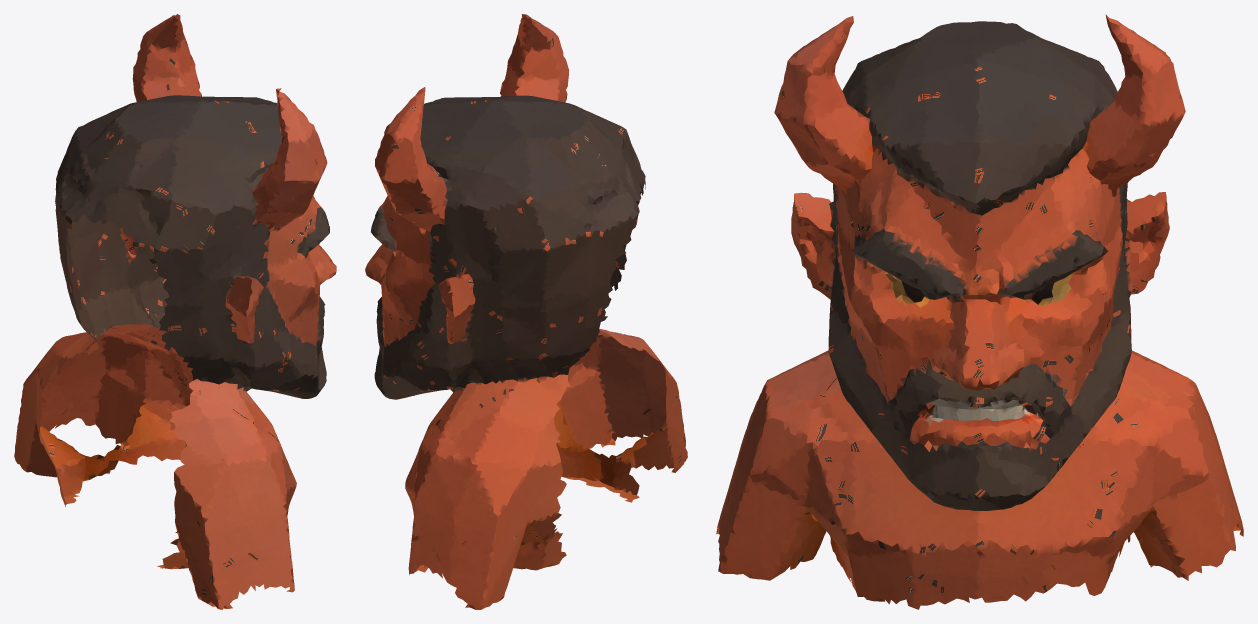
The model's file is enemy01.fbx.
3 renders of one model, left to right at view 1: azimuth 30°, elevation 25°; view 2: azimuth 150°, elevation 25°; view 3: azimuth 270°, elevation 25°, orthographic. The views are drawn at different scales.
Parts seen in each view (by area): view 1: tripo_node_ee08eecc; view 2: tripo_node_ee08eecc; view 3: tripo_node_ee08eecc.
Part boxes in pixels (bbox=[...]): tripo_node_ee08eecc: bbox=[14, 14, 336, 609]; tripo_node_ee08eecc: bbox=[365, 14, 687, 609]; tripo_node_ee08eecc: bbox=[716, 14, 1243, 609].
Bounding box in the file's own units: 310 × 511 × 418.
